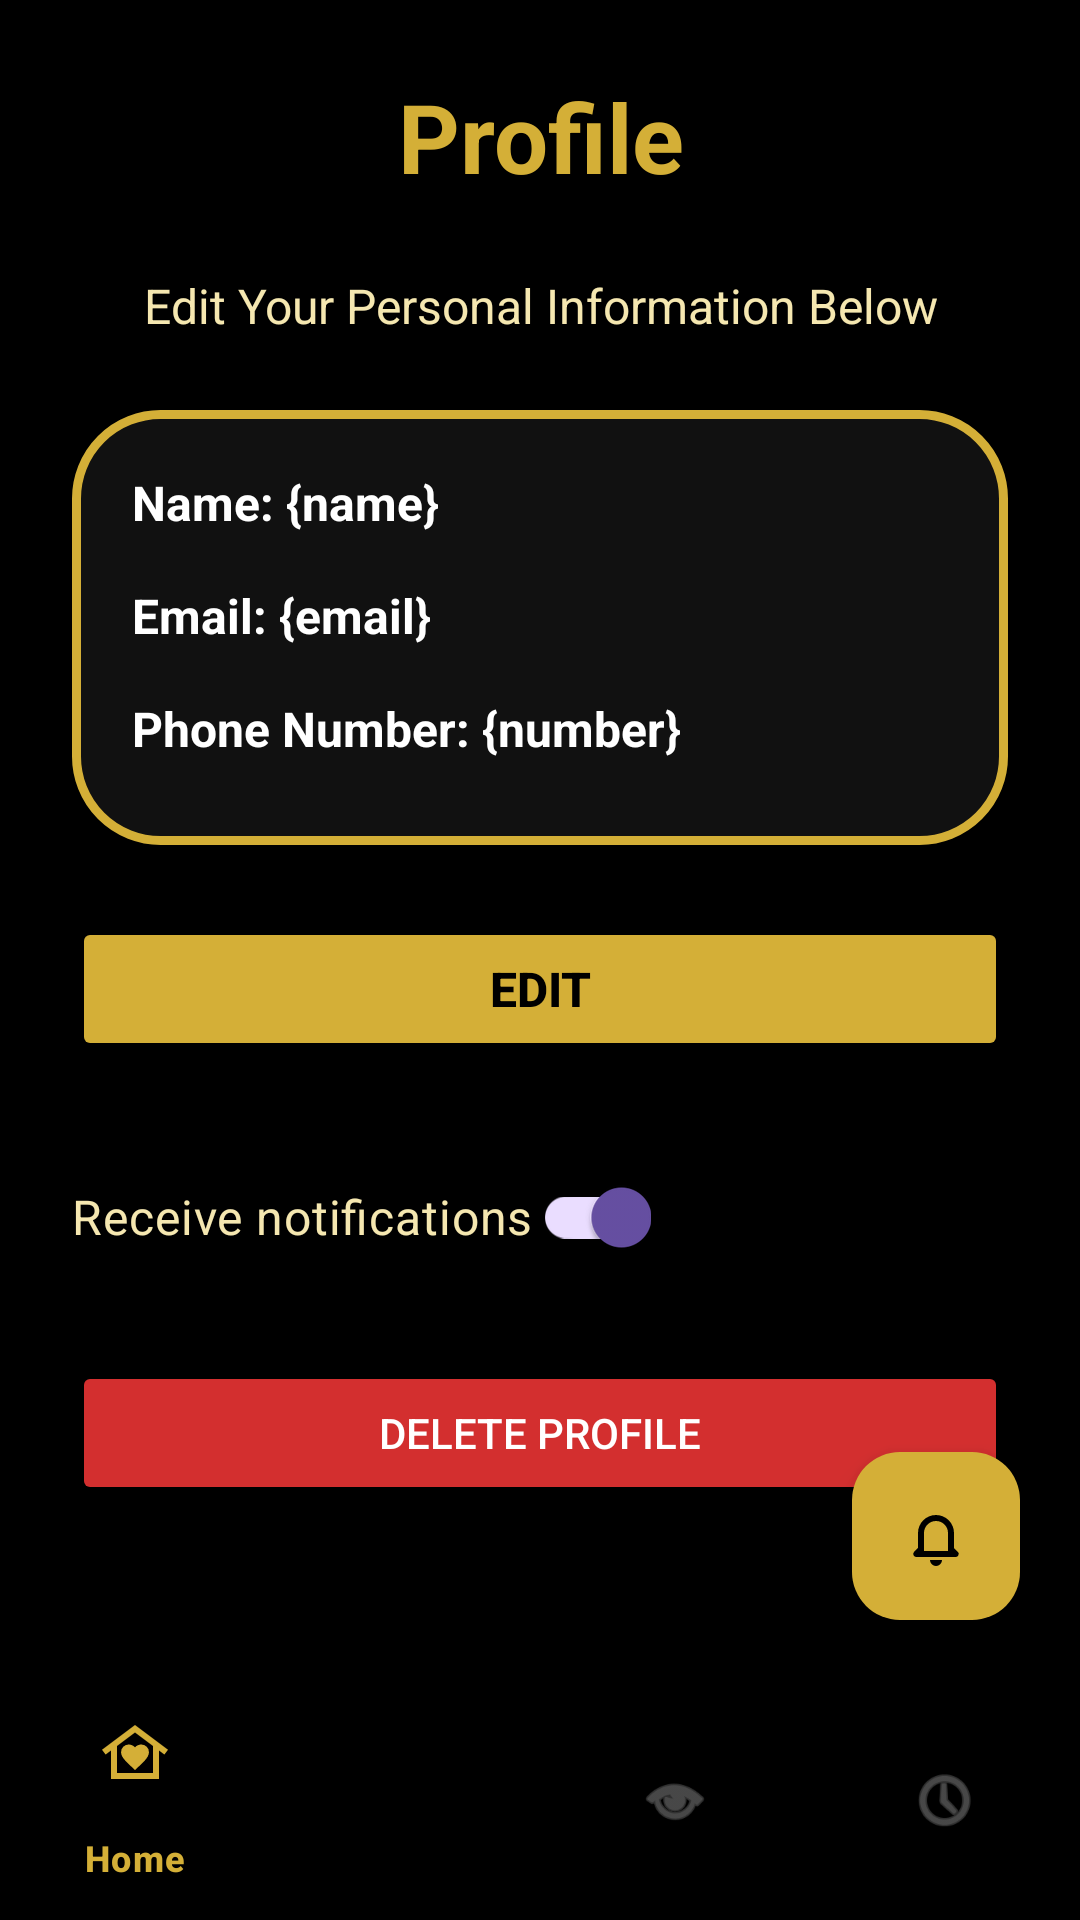

Named icons in this screenshot (1080px×1920px) and their centers, point (x, y):
Notifications: point (936, 1536)
